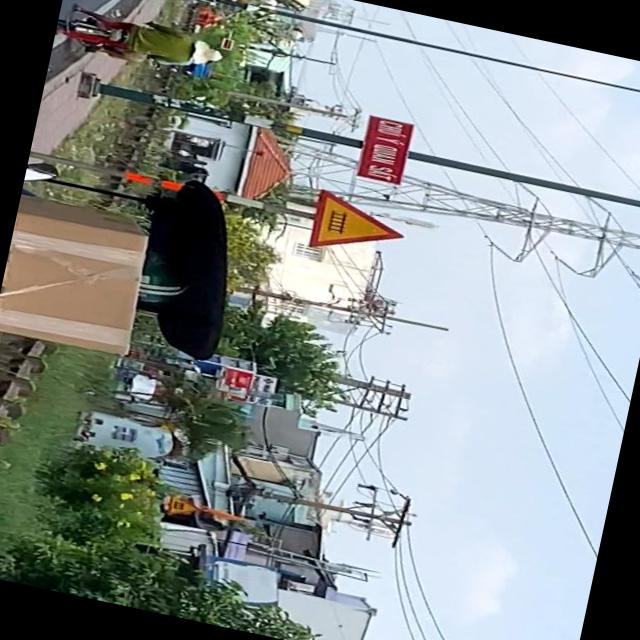W-210: (309, 187, 410, 265)
